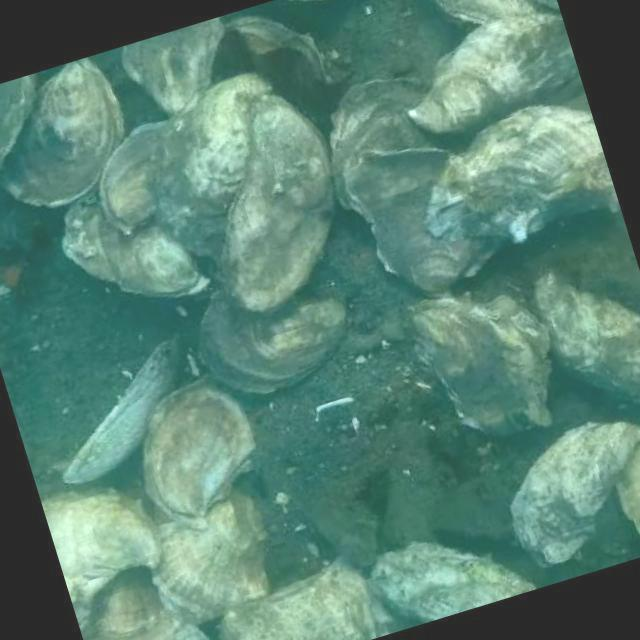Oyster-Closed: (428, 105, 620, 240), (221, 93, 335, 311), (345, 147, 504, 290), (153, 73, 270, 261), (410, 15, 579, 133), (412, 293, 552, 432), (509, 421, 640, 565), (0, 58, 124, 207), (143, 372, 262, 525), (65, 334, 184, 482), (61, 184, 209, 298), (154, 488, 269, 626), (198, 291, 347, 392), (332, 77, 438, 210), (535, 270, 640, 404), (41, 487, 161, 603), (220, 553, 377, 640), (371, 542, 538, 621), (123, 17, 223, 113), (98, 119, 174, 235), (229, 16, 353, 86), (91, 569, 163, 637), (0, 73, 35, 167), (437, 0, 561, 23)
